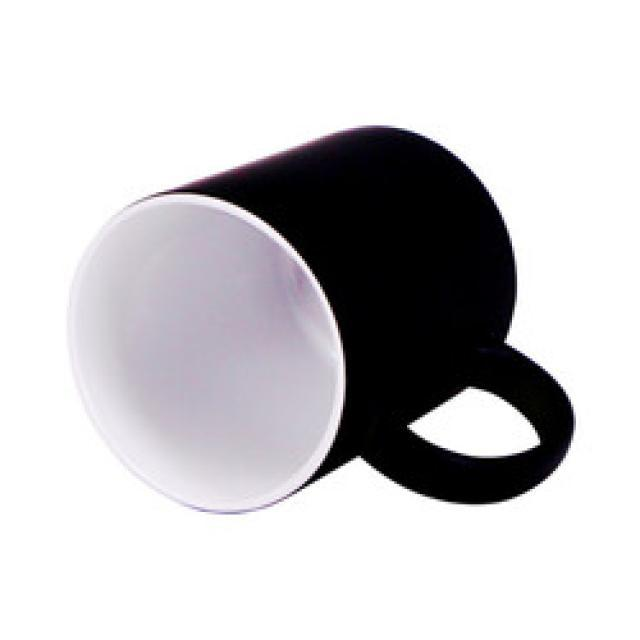Coffee Mug: (64, 123, 576, 520)
